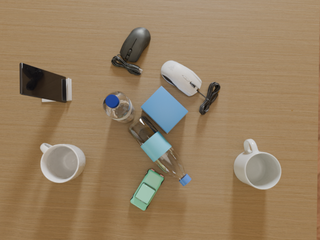bottle: (128, 116, 191, 186), (103, 91, 135, 123)
box: (141, 86, 188, 133)
cup: (234, 139, 281, 189), (40, 143, 86, 183)
mouse: (111, 27, 150, 75), (161, 61, 202, 96)
phone: (20, 63, 66, 103)
toy_car: (130, 169, 164, 210)
